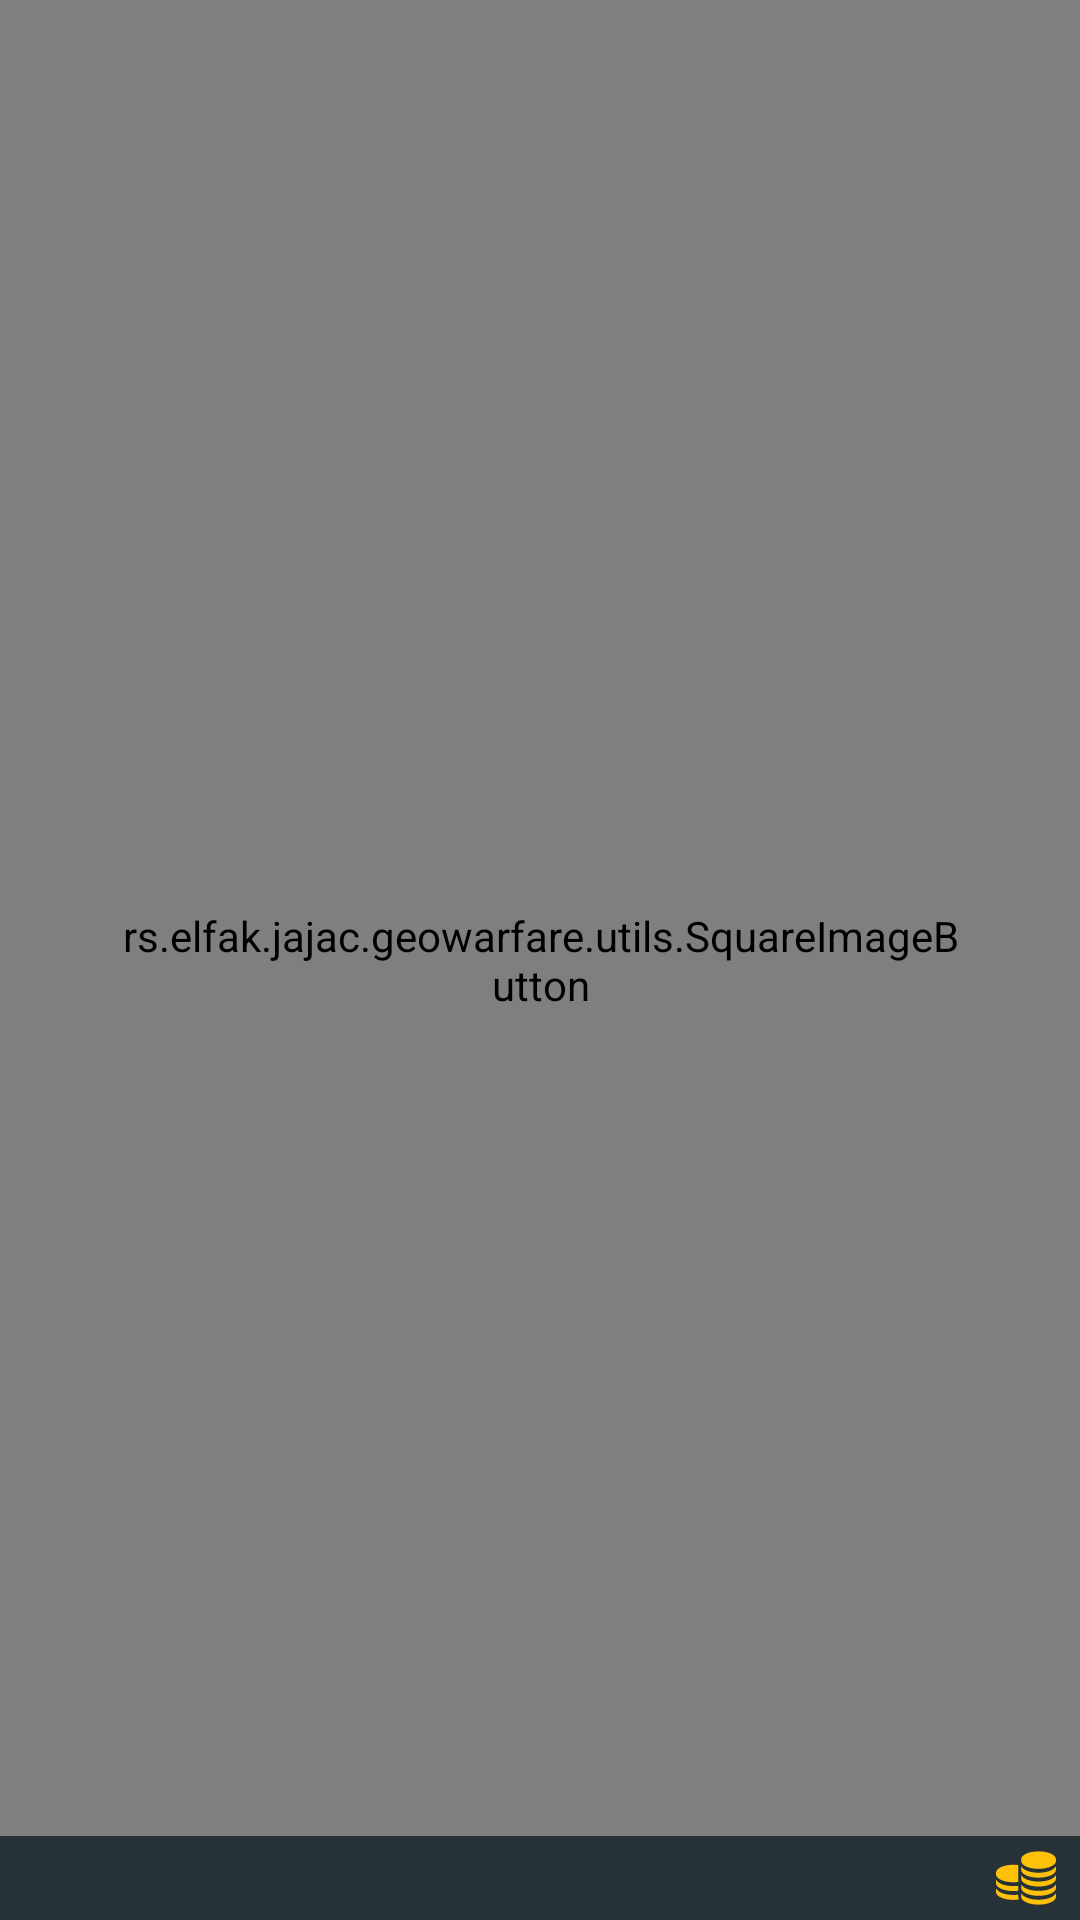

Screen size 1080px×1920px. Icon name, then its box in pixels as bbox(x1, y1, x2, y2):
coin stack: bbox(996, 1851, 1056, 1905)
